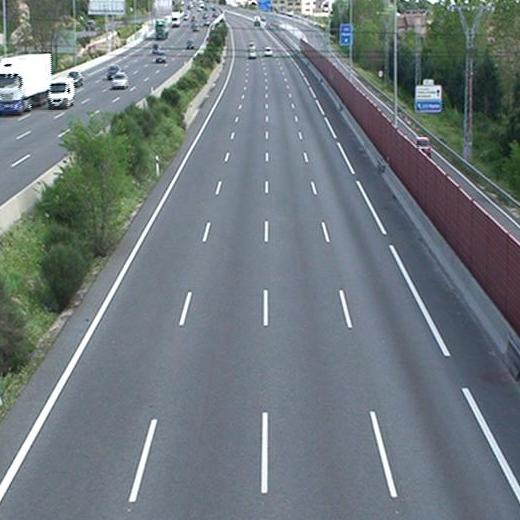car: (263, 46, 272, 57), (247, 47, 255, 58)
